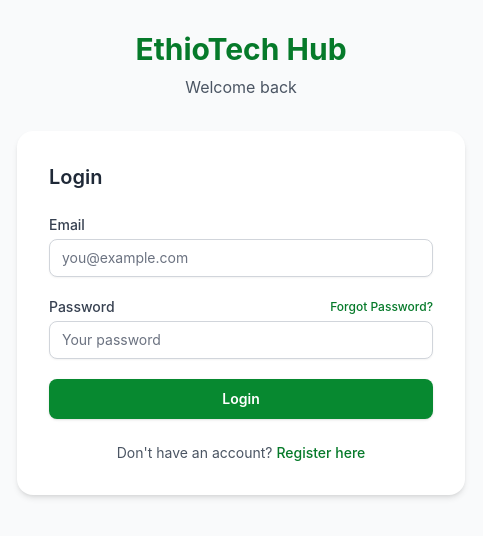
Test case: LoginPage › shows validation errors on empty submit
Click the button "Login". click: coordinates (241, 399)
box: [49,379,433,419]
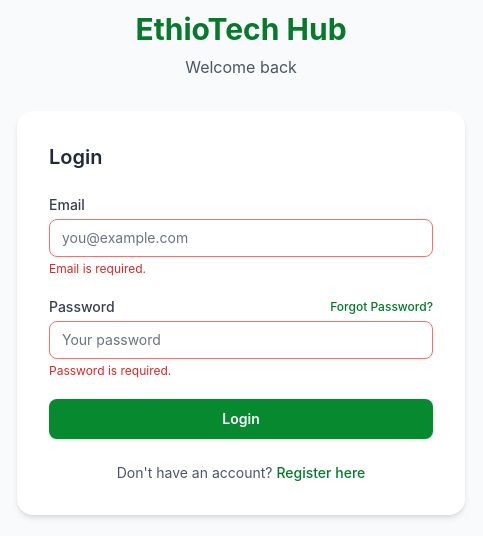
Check: the text "Email is required." is shown, box [49,261,146,276]
Check: the text "Password is required." is shown, box [49,363,171,378]
